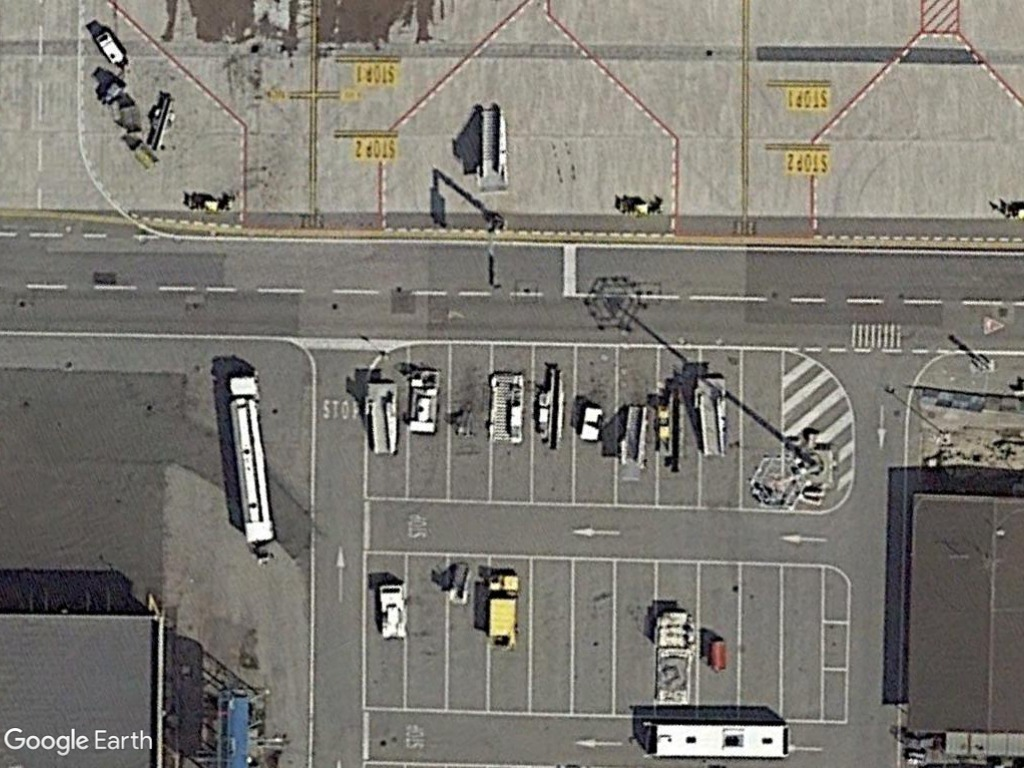bus: (642, 715, 794, 763)
longvehicle: (225, 368, 278, 550)
other: (484, 567, 523, 652), (488, 368, 527, 448), (403, 363, 443, 439), (374, 578, 411, 644)
stairtruck: (689, 369, 734, 463), (472, 104, 514, 195), (361, 376, 403, 460), (615, 399, 650, 481)
